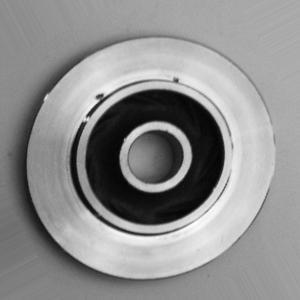crack: (91, 89, 113, 105), (165, 72, 183, 89)
scratch: (224, 127, 240, 185)
unpolished_casting: (22, 32, 278, 281)
